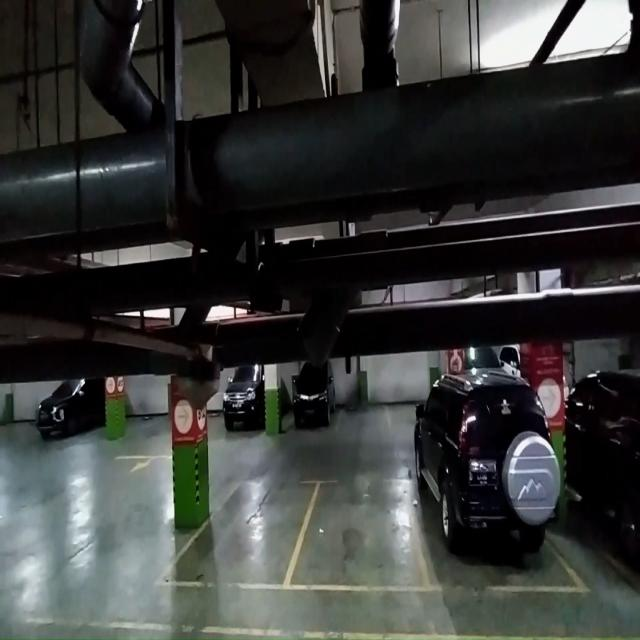empty: (309, 474, 421, 592), (204, 476, 309, 592)
occupied: (416, 435, 564, 590)
